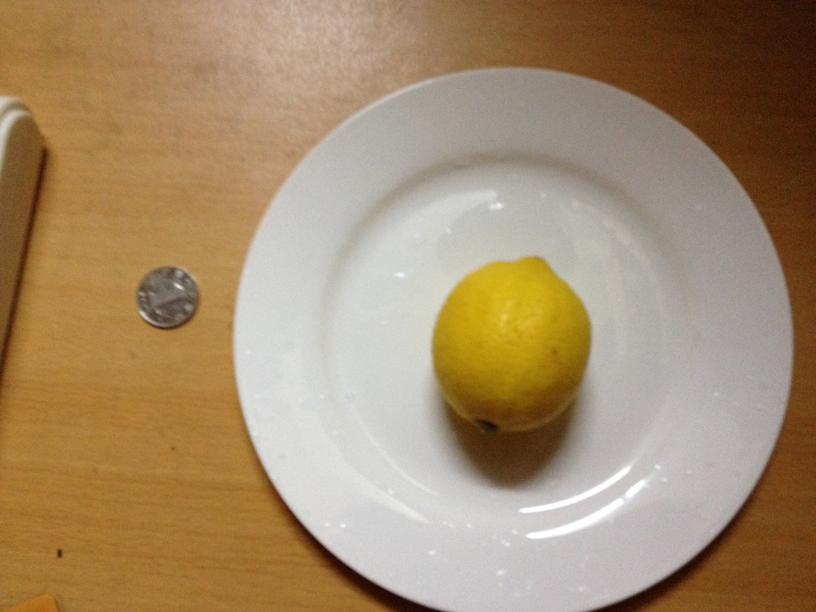coin: (135, 268, 198, 328)
lemon: (438, 254, 587, 433)
